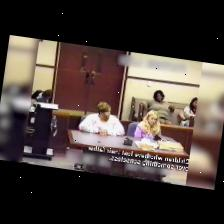person: (78, 102, 123, 136), (142, 90, 173, 124), (133, 110, 160, 139), (180, 97, 197, 126), (36, 90, 51, 103), (30, 90, 41, 99)
